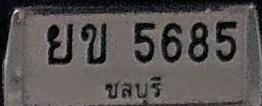5: (134, 22, 155, 63), (216, 20, 236, 62)
6: (162, 22, 182, 62)
8: (188, 22, 208, 62)
A02: (81, 22, 107, 64)
A34: (47, 23, 73, 64)
CBI: (102, 71, 163, 104)
